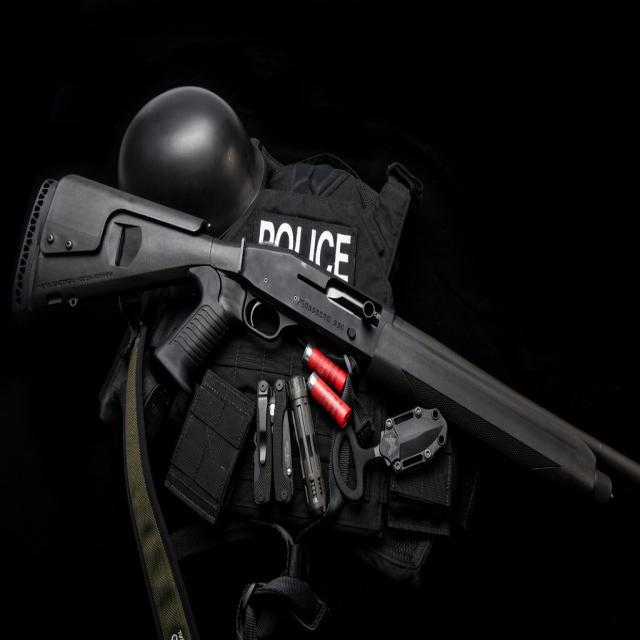weapon: (23, 96, 594, 610)
